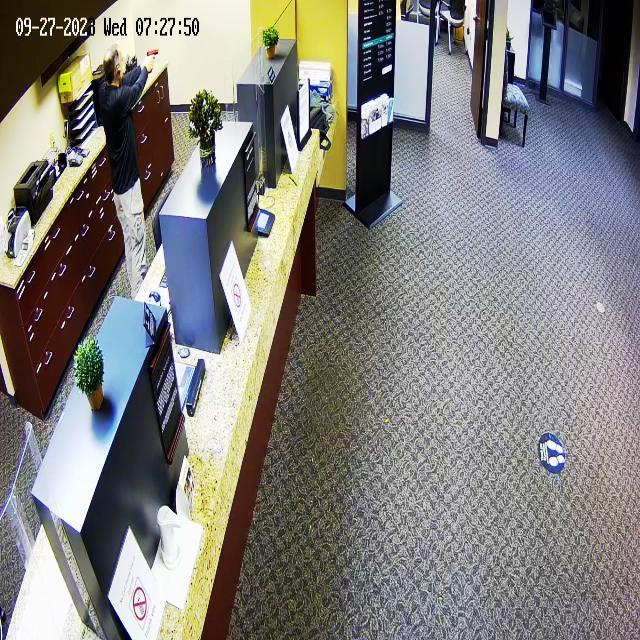Gun: (142, 45, 172, 75)
